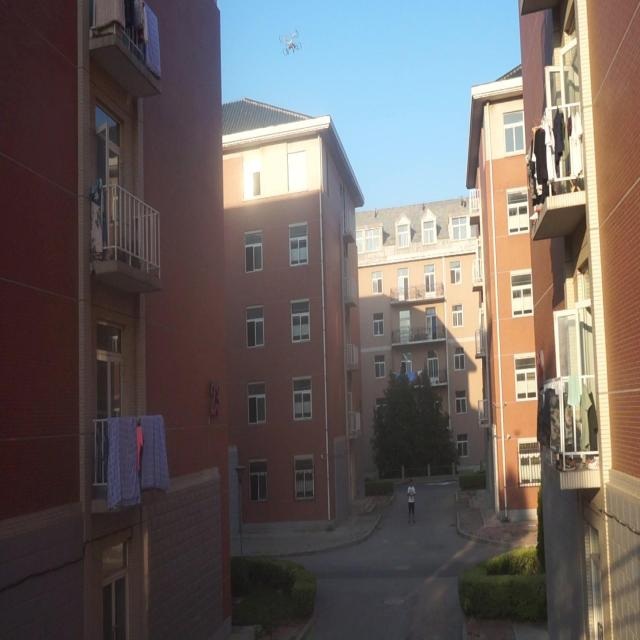UAV: (278, 30, 302, 56)
